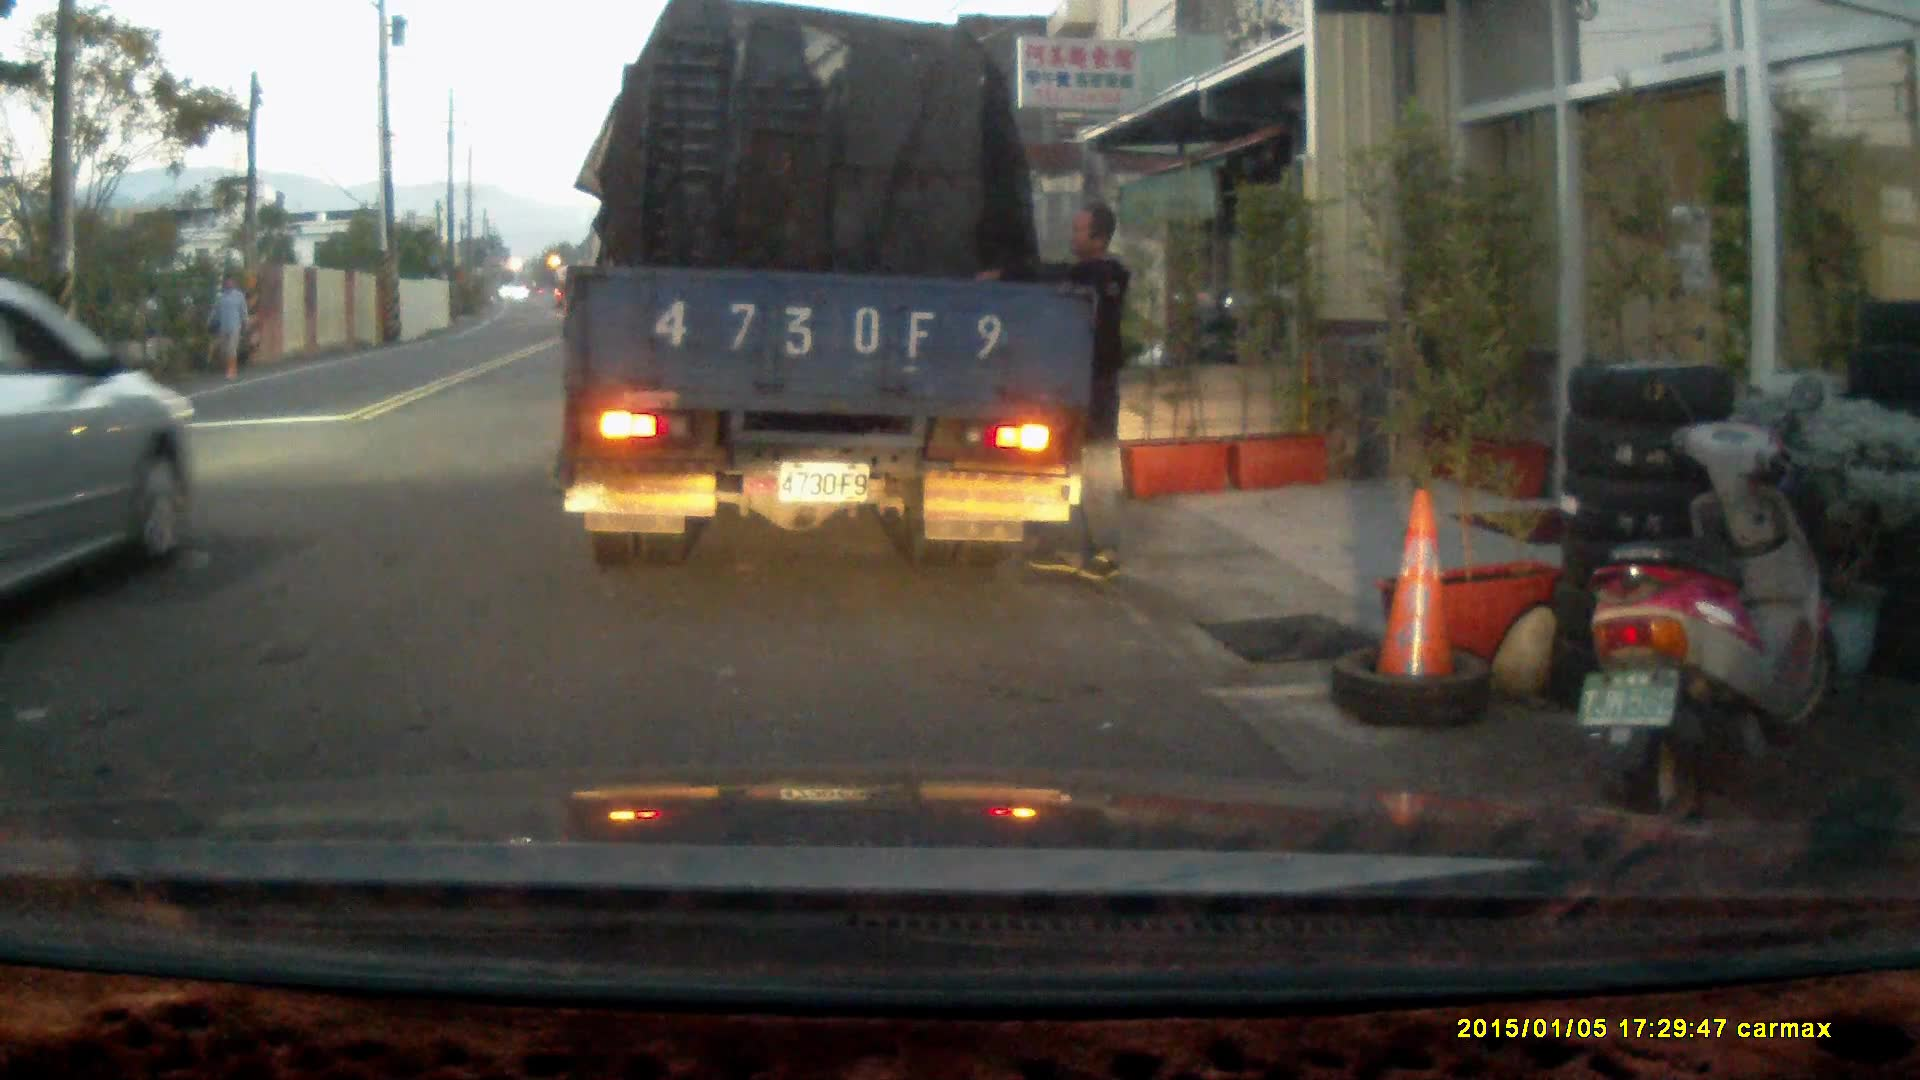pedestrian: (975, 200, 1129, 582), (209, 270, 249, 383)
vehicle: (565, 23, 1097, 572), (4, 276, 203, 605)
